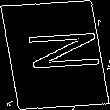N_E: (9, 32, 101, 78)
